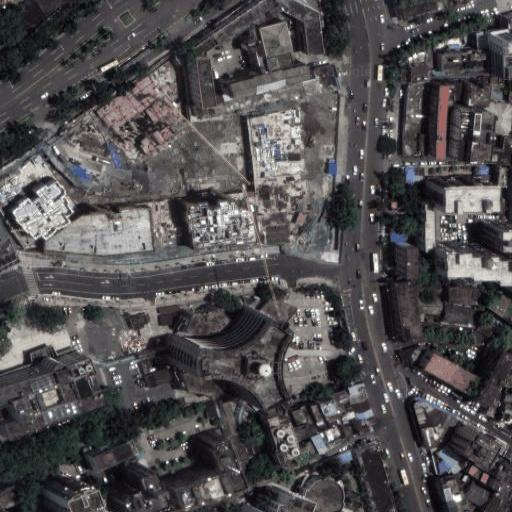building: (241, 109, 313, 242), (176, 306, 268, 399), (96, 73, 187, 163), (0, 352, 94, 431), (211, 0, 324, 56), (45, 206, 150, 252), (167, 432, 233, 502), (10, 181, 75, 242), (188, 199, 258, 251), (226, 80, 314, 115), (423, 352, 488, 399), (229, 64, 310, 99), (358, 445, 398, 512), (250, 22, 296, 75), (112, 468, 158, 512), (404, 84, 430, 157), (181, 365, 232, 402), (266, 412, 304, 461), (412, 402, 453, 446), (428, 84, 452, 157), (186, 308, 234, 339), (44, 479, 89, 512), (453, 423, 492, 461), (465, 464, 509, 497), (90, 440, 136, 471), (303, 479, 344, 512), (434, 179, 488, 204), (307, 397, 342, 431), (469, 113, 493, 162), (390, 285, 412, 338), (450, 100, 470, 158), (339, 411, 379, 440), (437, 474, 466, 512), (435, 441, 467, 475), (13, 0, 48, 31), (441, 52, 491, 73), (185, 57, 206, 107), (478, 215, 511, 245), (290, 406, 317, 442), (308, 64, 339, 95), (462, 76, 491, 107), (332, 388, 358, 422), (462, 479, 493, 507), (489, 35, 510, 73), (348, 383, 372, 416), (273, 495, 316, 512), (476, 27, 510, 48), (192, 103, 225, 124), (491, 133, 512, 165), (27, 345, 57, 367), (491, 103, 512, 133), (443, 303, 472, 324), (317, 423, 344, 444), (481, 491, 506, 512), (425, 208, 437, 251), (449, 287, 477, 305), (146, 369, 174, 387), (399, 242, 414, 275), (194, 36, 217, 57), (406, 64, 429, 84), (490, 76, 507, 103), (330, 450, 355, 468), (420, 296, 444, 314), (411, 347, 432, 367), (407, 51, 434, 65), (311, 432, 328, 454), (421, 281, 444, 297), (129, 313, 150, 330), (497, 164, 511, 187), (477, 402, 496, 418), (158, 311, 179, 325), (406, 166, 424, 182), (157, 304, 180, 315), (448, 84, 462, 101), (474, 166, 491, 179), (391, 228, 406, 242), (142, 359, 154, 376)
